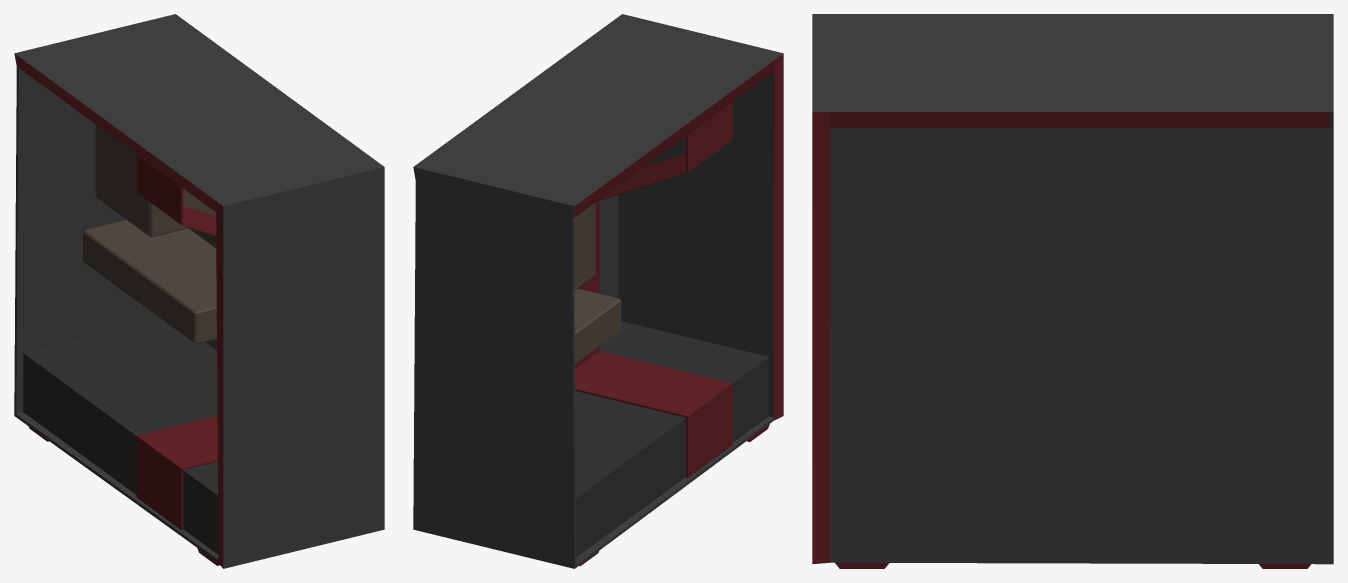
File: Computer.glb
The picture shows the model from 3 angles, left to right: view 1: azimuth 30°, elevation 25°; view 2: azimuth 150°, elevation 25°; view 3: azimuth 270°, elevation 25°; orthographic projection. The views are drawn at different scales.
Visible parts, largest first — view 1: Computer; view 2: Computer; view 3: Computer.
Part boxes in pixels (x1,y1,x2,y2): Computer: [14, 14, 384, 568]; Computer: [413, 14, 783, 568]; Computer: [812, 14, 1333, 568].
Size of the model in its own units: 0.23 by 0.5023 by 0.516.
